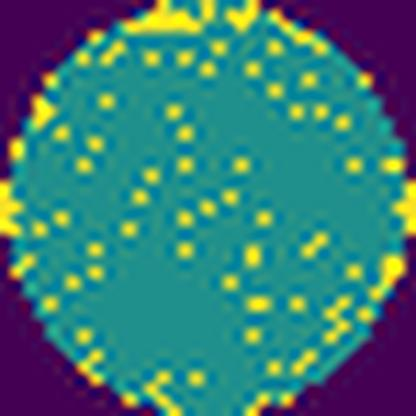Edge-Loc: (108, 0, 209, 36)
